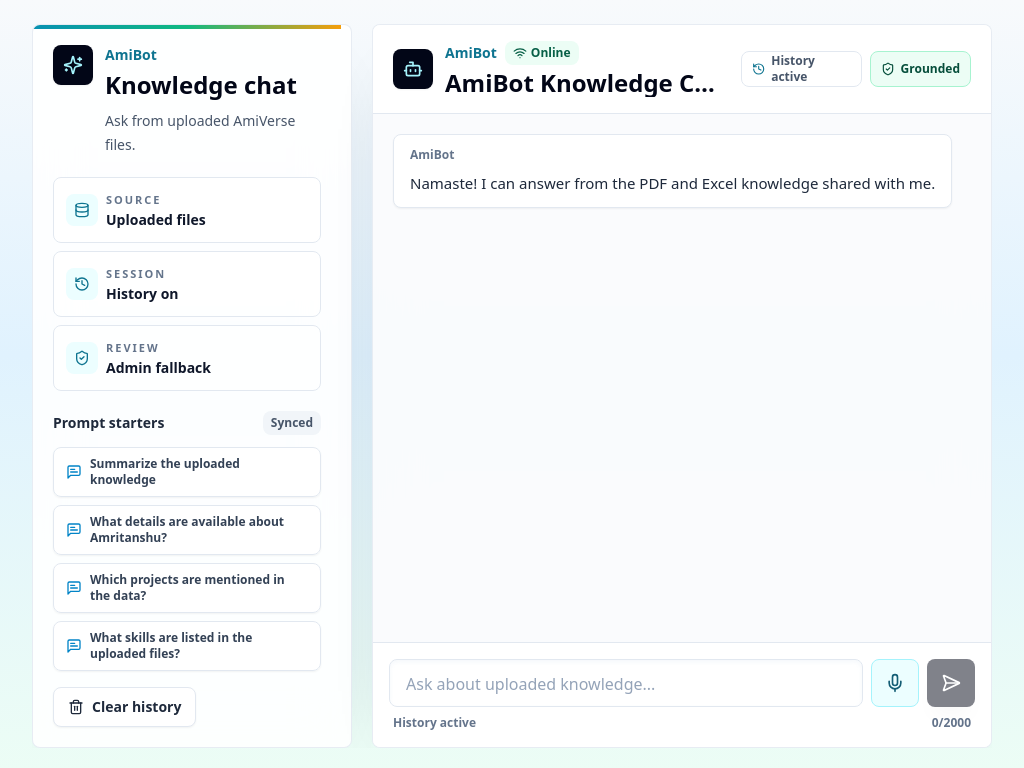
Scenario: sending waits for history clearing to finish
Click the button with aria-label "clear amibot history" at (125, 707), box left=53, top=687, right=196, bottom=727
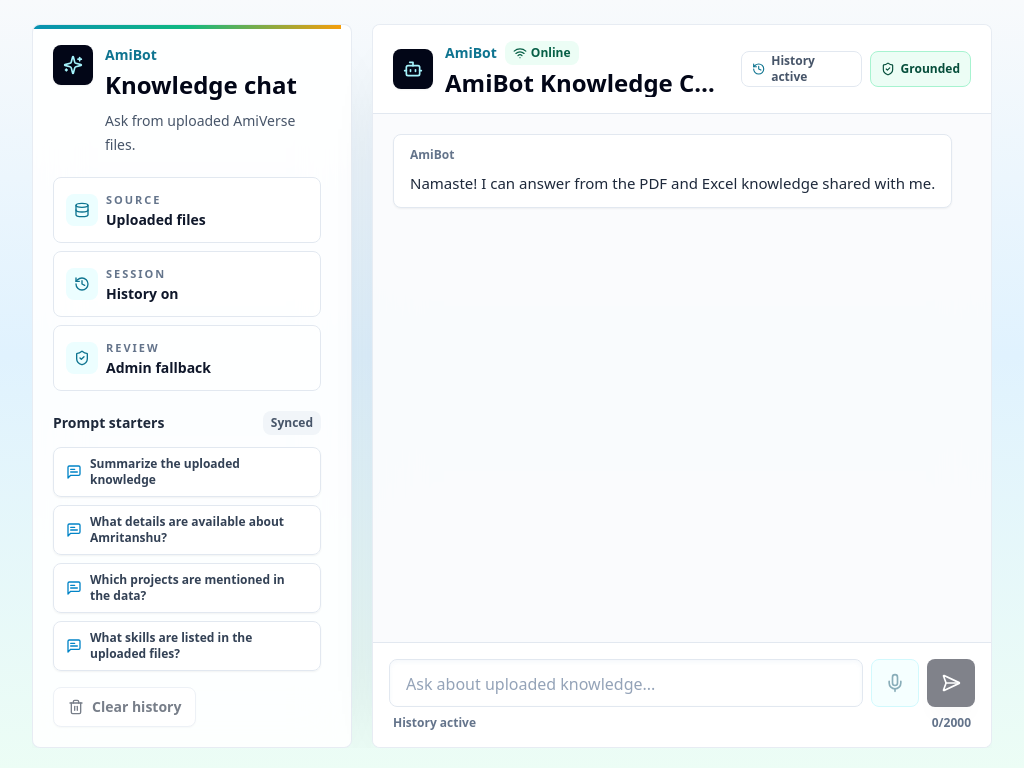
Type "When will the next project launch?" into the text box named "type your message" at (626, 683), box left=389, top=659, right=863, bottom=707
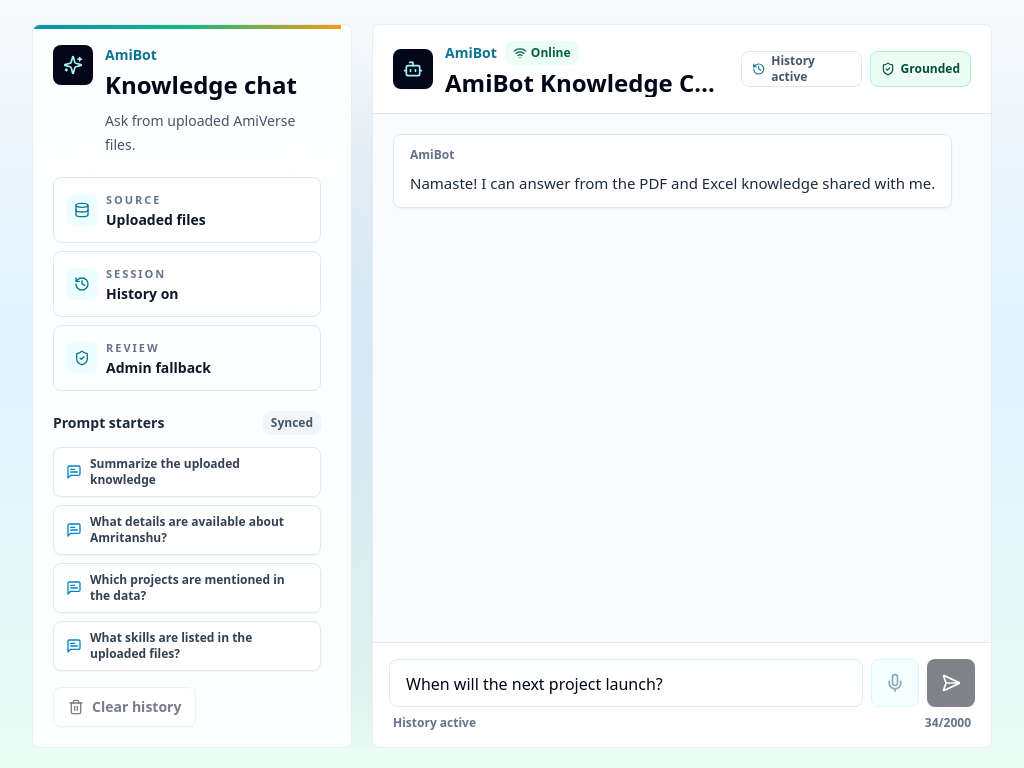
Expected: the button named "send message" is disabled, left=927, top=659, right=975, bottom=707
Result: the button with aria-label "clear amibot history" is disabled at left=53, top=687, right=196, bottom=727
Submit the form named "type your message", box left=389, top=659, right=975, bottom=707
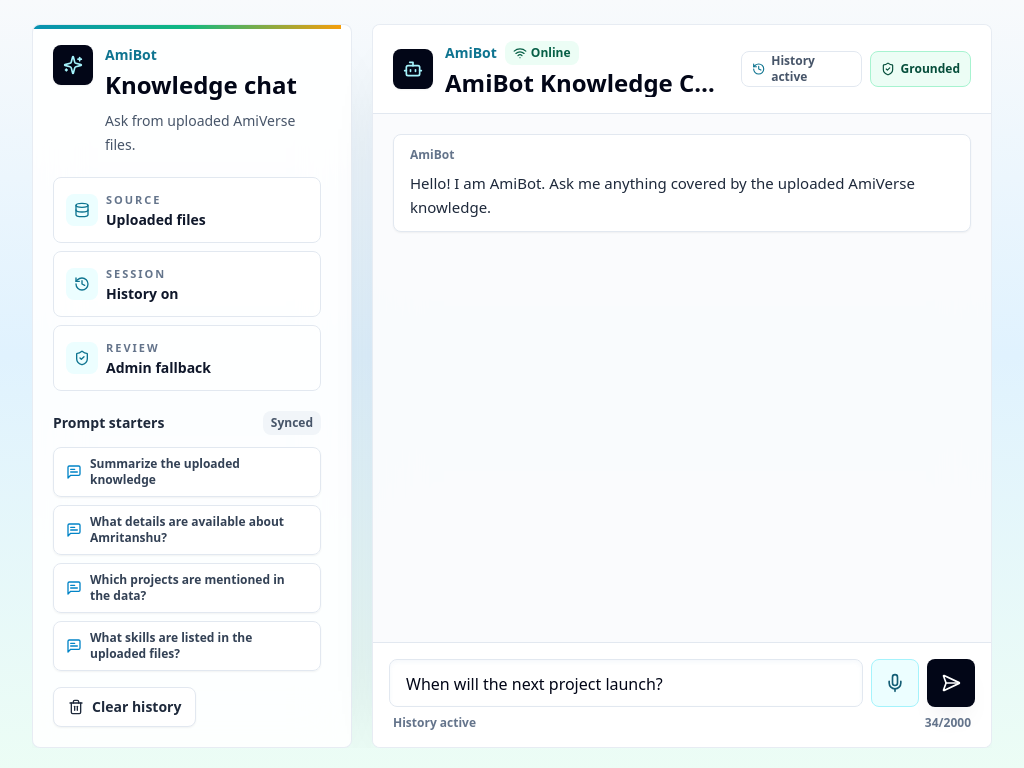
Result: the button named "send message" is enabled at left=927, top=659, right=975, bottom=707
